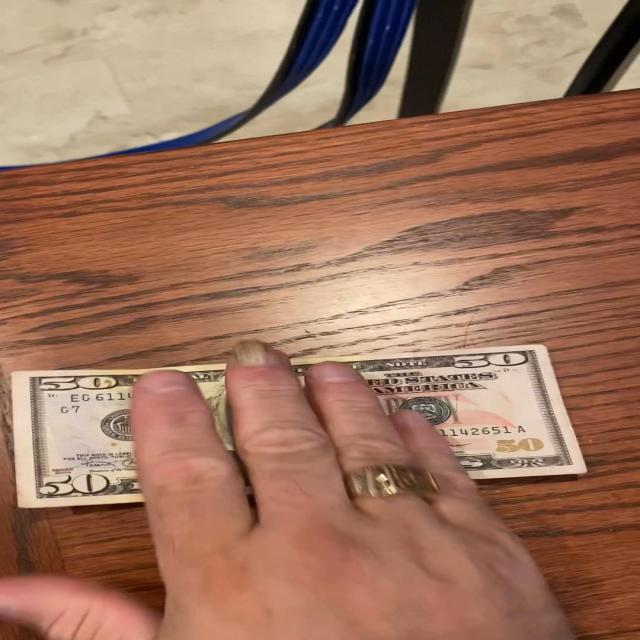50-Front: (4, 343, 612, 515)
